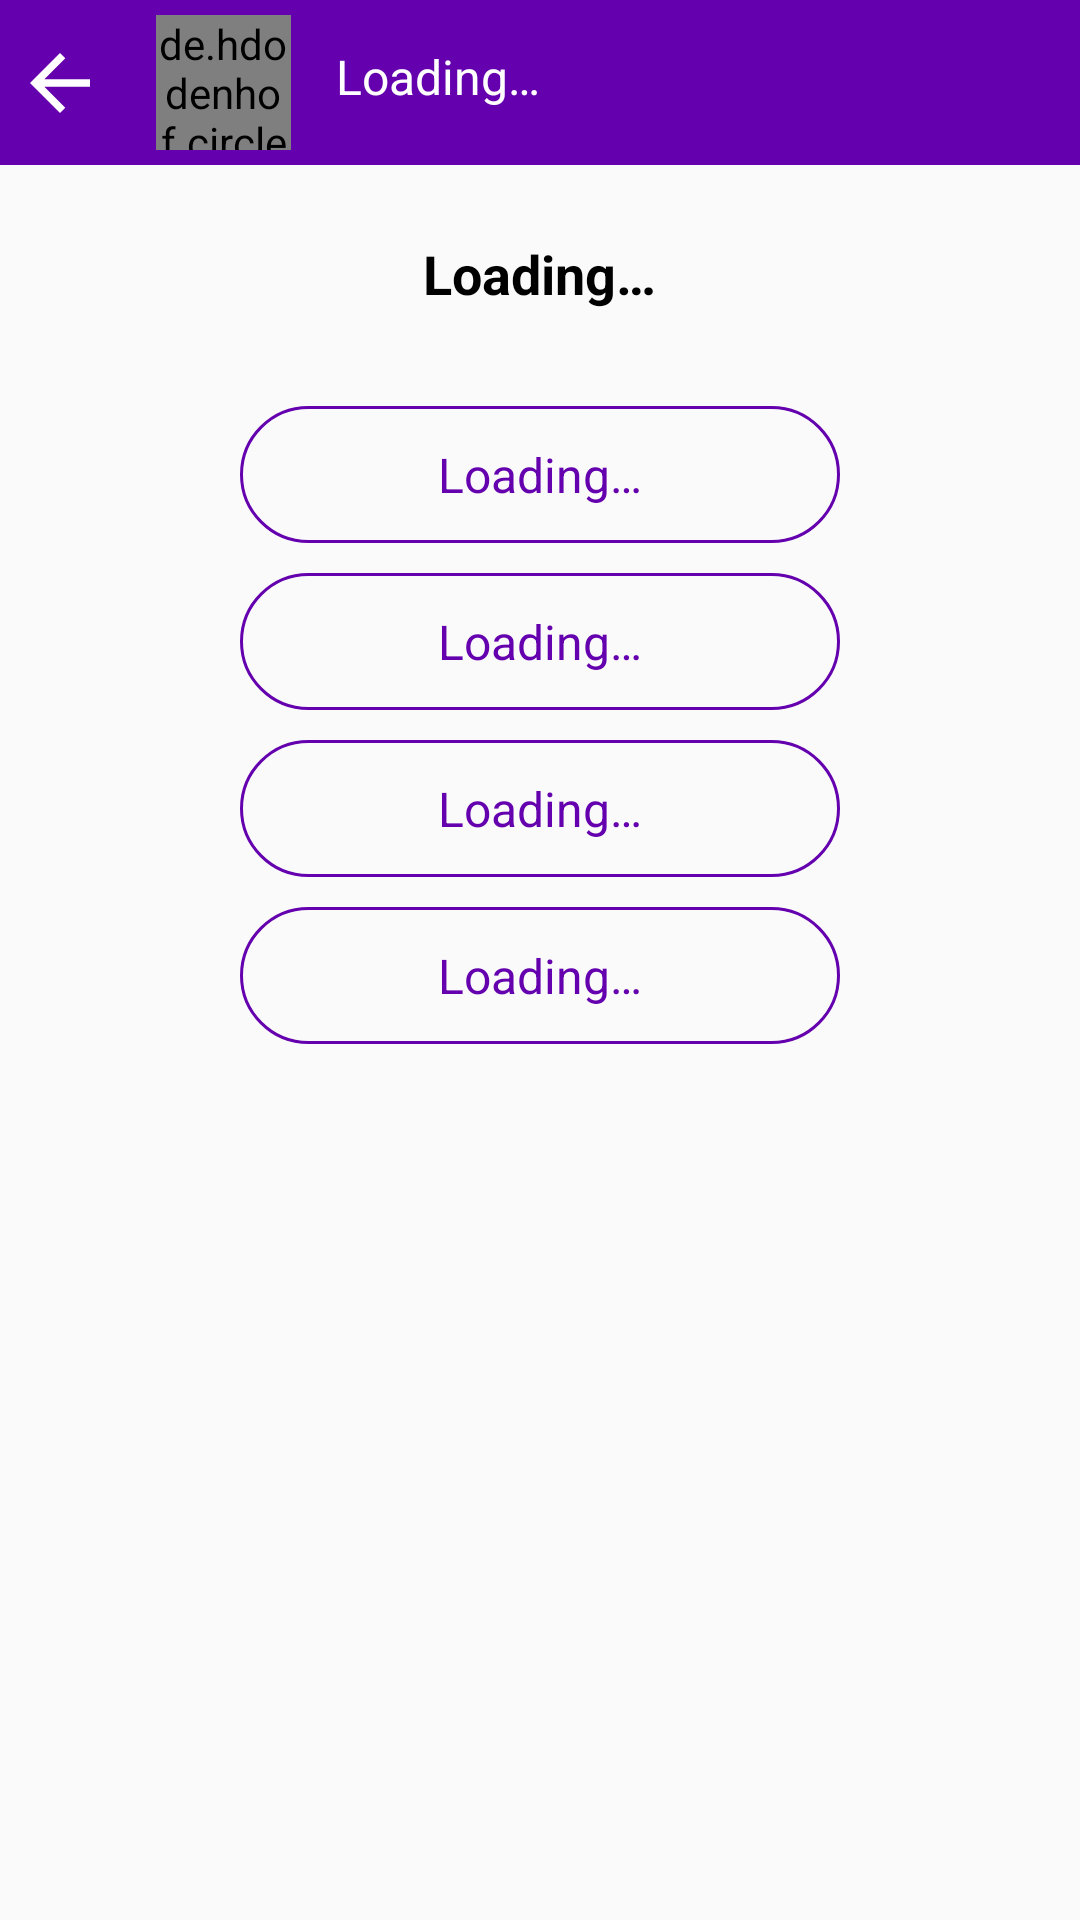

Named icons in this screenshot (1080w x 1920h) and their centers, [x,y]:
back navigation: [60,83]
